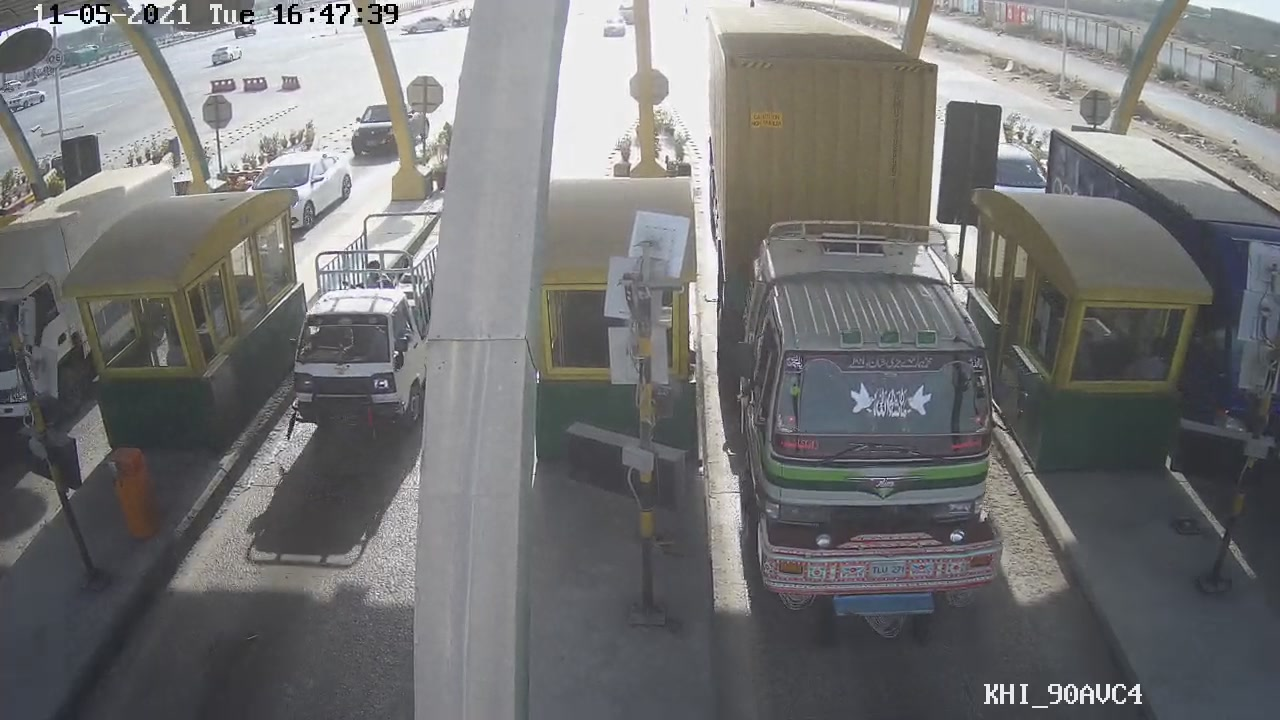F6: (693, 1, 1007, 641)
